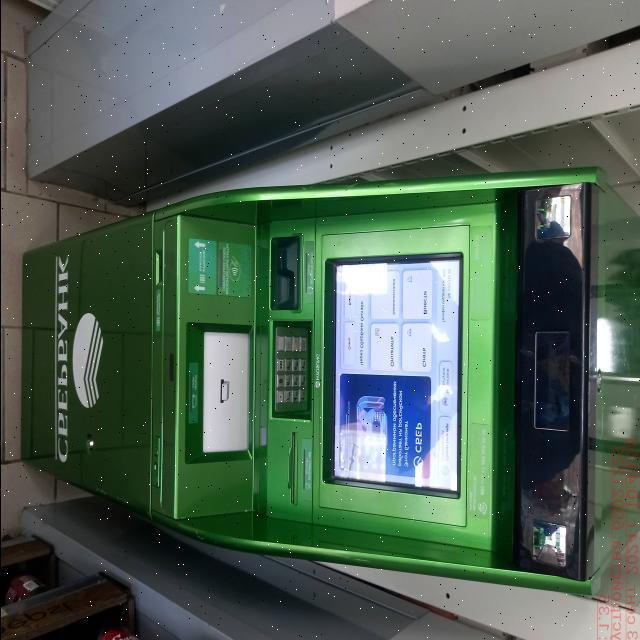bank: (12, 168, 640, 597)
